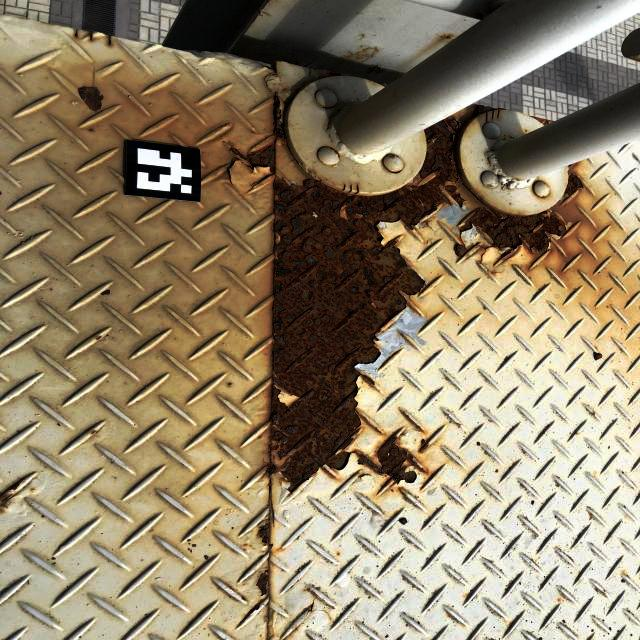Corrosion: (226, 93, 573, 500), (0, 485, 21, 516), (256, 517, 272, 550), (255, 567, 271, 596), (565, 175, 585, 197), (532, 116, 555, 125), (328, 71, 354, 76), (441, 35, 453, 41)
